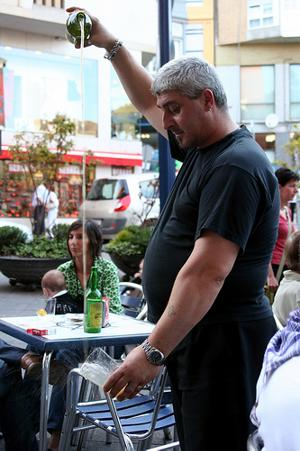person: (67, 5, 280, 450)
